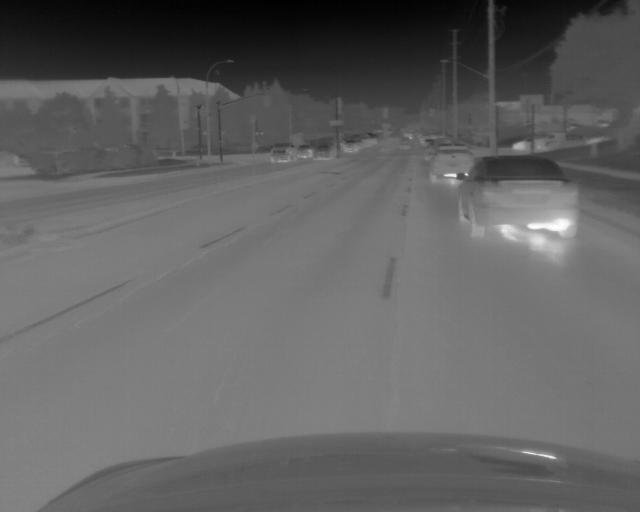car: (454, 157, 577, 243), (430, 147, 473, 182), (541, 134, 585, 148), (271, 143, 295, 162), (513, 138, 541, 151), (313, 143, 332, 161), (344, 140, 363, 153), (297, 144, 312, 159)
